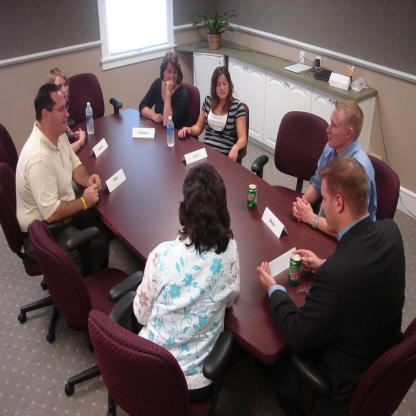face: (321, 191, 339, 231), (50, 97, 70, 132), (328, 114, 348, 147), (55, 79, 69, 102), (216, 77, 230, 98), (165, 66, 178, 86)
